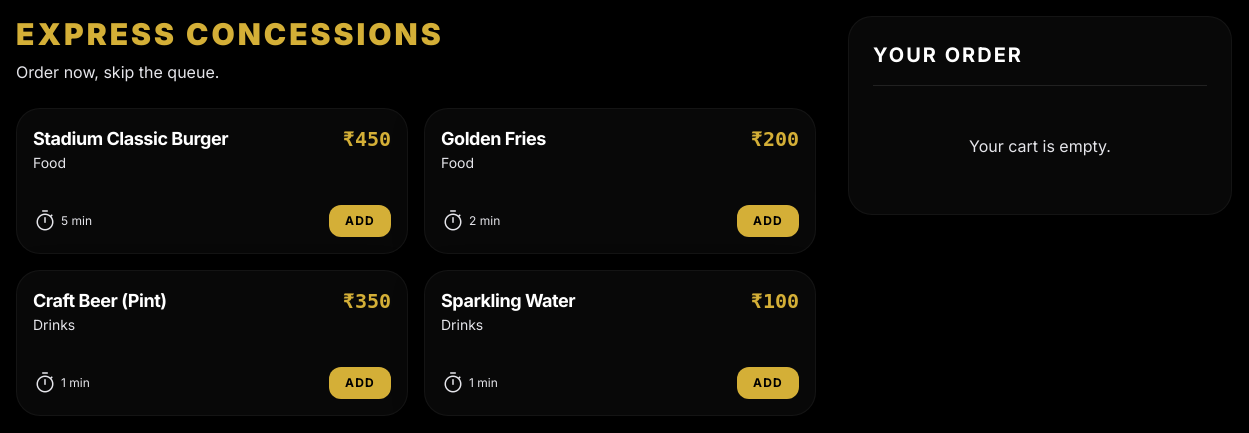
Test: FoodOrdering › adds items to cart and updates total
The image size is (1249, 433).
# Click Add on first item (Burger - ₹450)
Click the button "Add" in the row of "5 min" at (360, 221), box [329, 205, 391, 237]
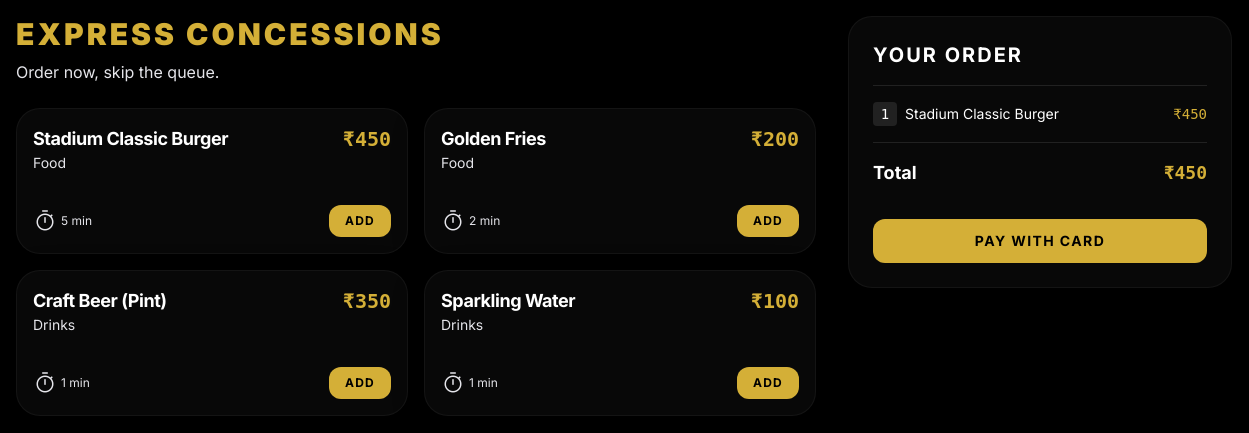
expect the text "₹450" next to "Golden Fries" is shown: met, box [343, 125, 391, 153]
expect the text "Your cart is empty." is gone: met
# Add again
Click the button "Add" in the row of "5 min" at (360, 221), box [329, 205, 391, 237]
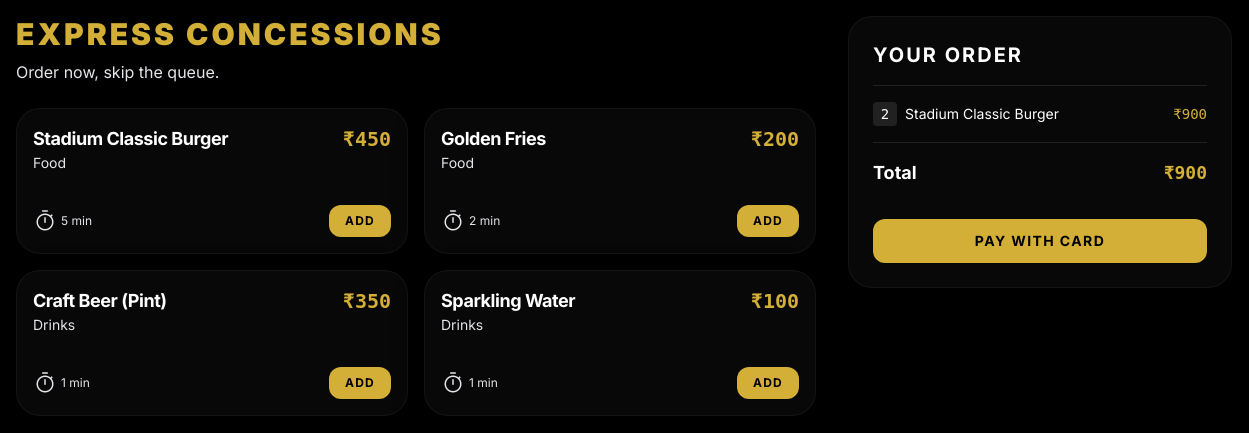
expect the 1st text "₹900" is shown: met, box [1173, 104, 1207, 124]
